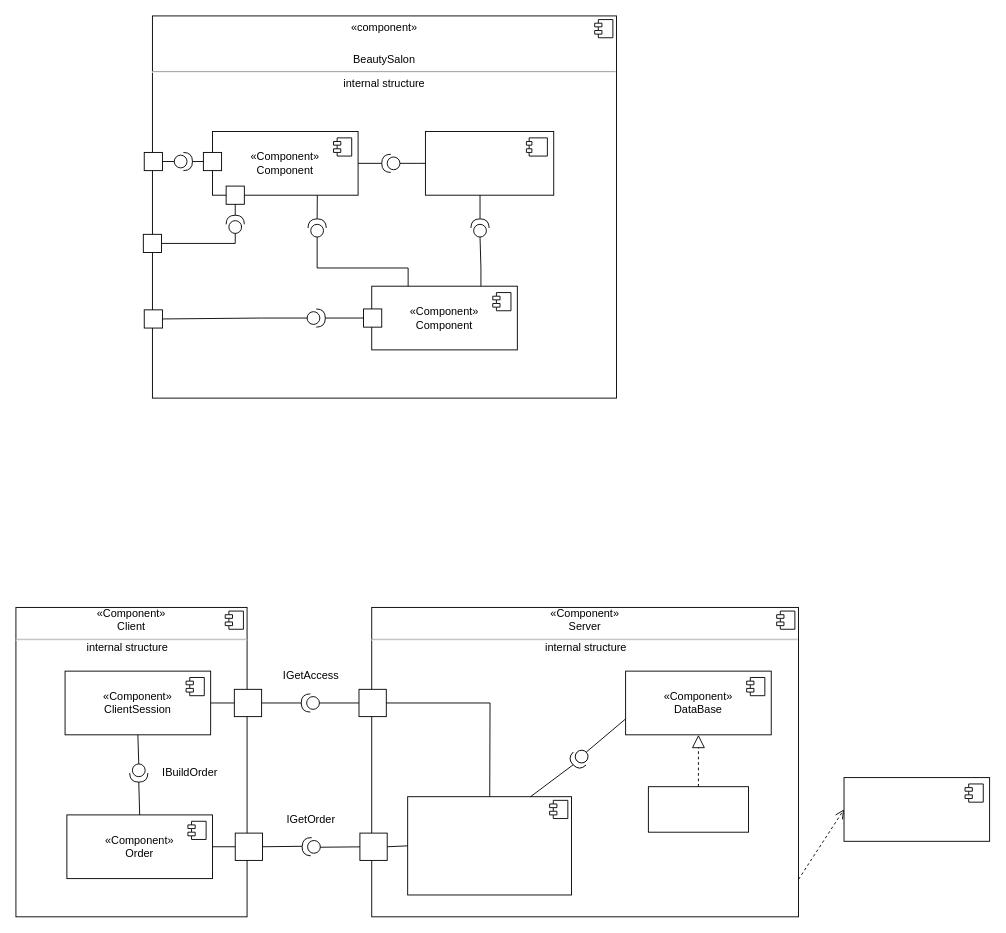
Some shapes in this 1006 by 933 pixel diagram are drawn without their labels. Here are the shapes that lost their labels. From the top down, the box of each, then its label:
(425, 131, 554, 195): «c omponent » PriceList
(647, 786, 748, 832): Oracle
(843, 777, 990, 841): «Component» Authorization
(407, 796, 571, 895): «Component» SalonController options CheckPass() GiveAccsess() SaveOrder()
